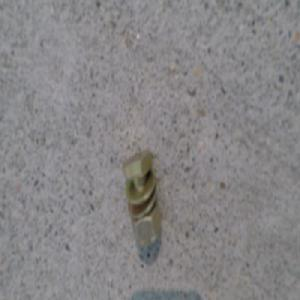BoltNutSet: (121, 148, 160, 243)
